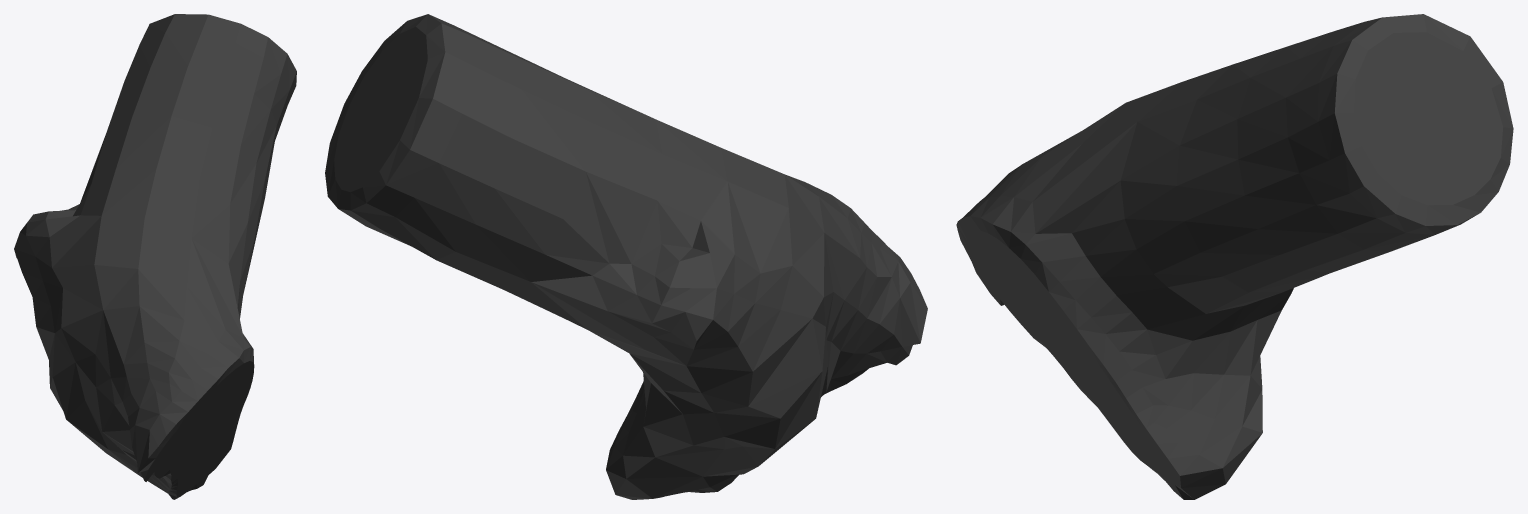
Rendered from R_sided_CRAN_VEN_CAVA.glb.
The picture shows the model from 3 angles, left to right: view 1: azimuth 30°, elevation 25°; view 2: azimuth 150°, elevation 25°; view 3: azimuth 270°, elevation 25°; orthographic projection. The views are drawn at different scales.
Parts seen in each view (by area): view 1: R_sided_CRAN_VEN_CAVA; view 2: R_sided_CRAN_VEN_CAVA; view 3: R_sided_CRAN_VEN_CAVA.
Boxes of the visible parts, left/top/right/bottom form: R_sided_CRAN_VEN_CAVA: left=14, top=14, right=296, bottom=499; R_sided_CRAN_VEN_CAVA: left=325, top=14, right=927, bottom=499; R_sided_CRAN_VEN_CAVA: left=956, top=14, right=1513, bottom=499.
Bounding box in the file's own units: 3.85 × 4.81 × 4.55.
Materials: 1 (1 with a texture image).
